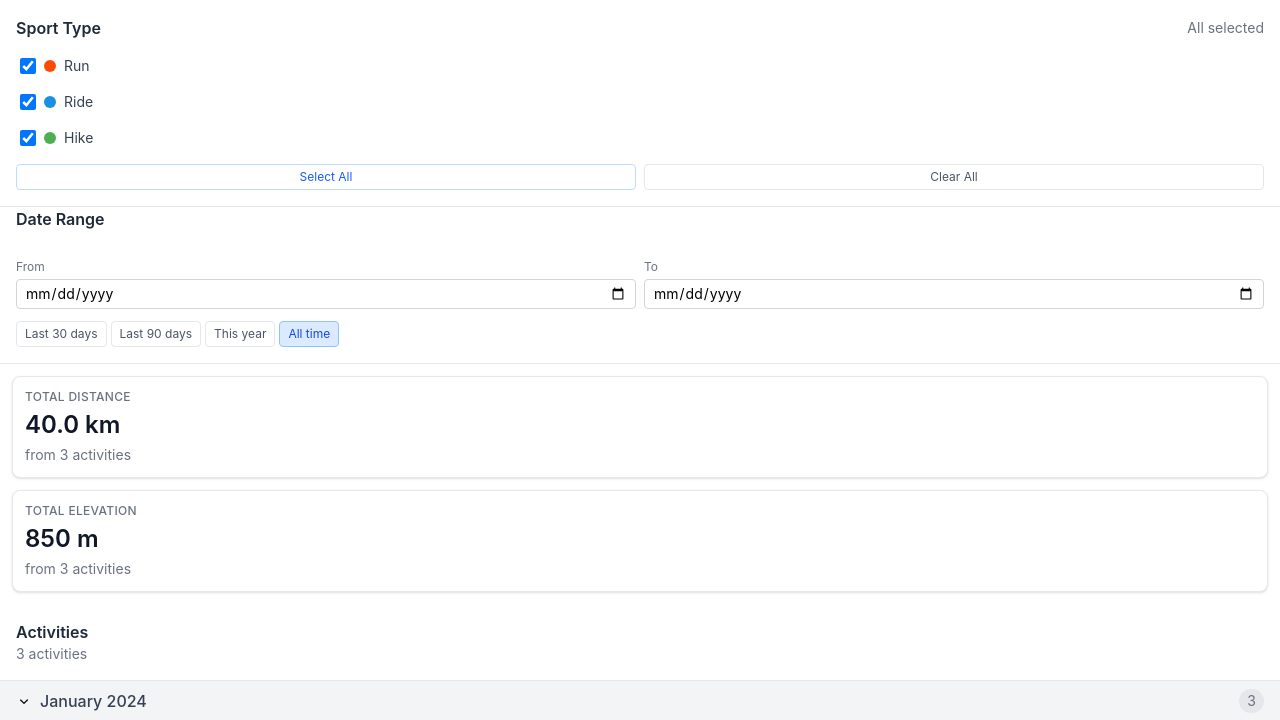
it: SidebarPanel › shows correct count when filtered
This screenshot has width=1280, height=720.
Toggle off 'run'
What coordinates should you click on to do the following:
click the checkbox labelled "Run"
I would click on:
 (28, 66)
Its box is [20,58,36,74].
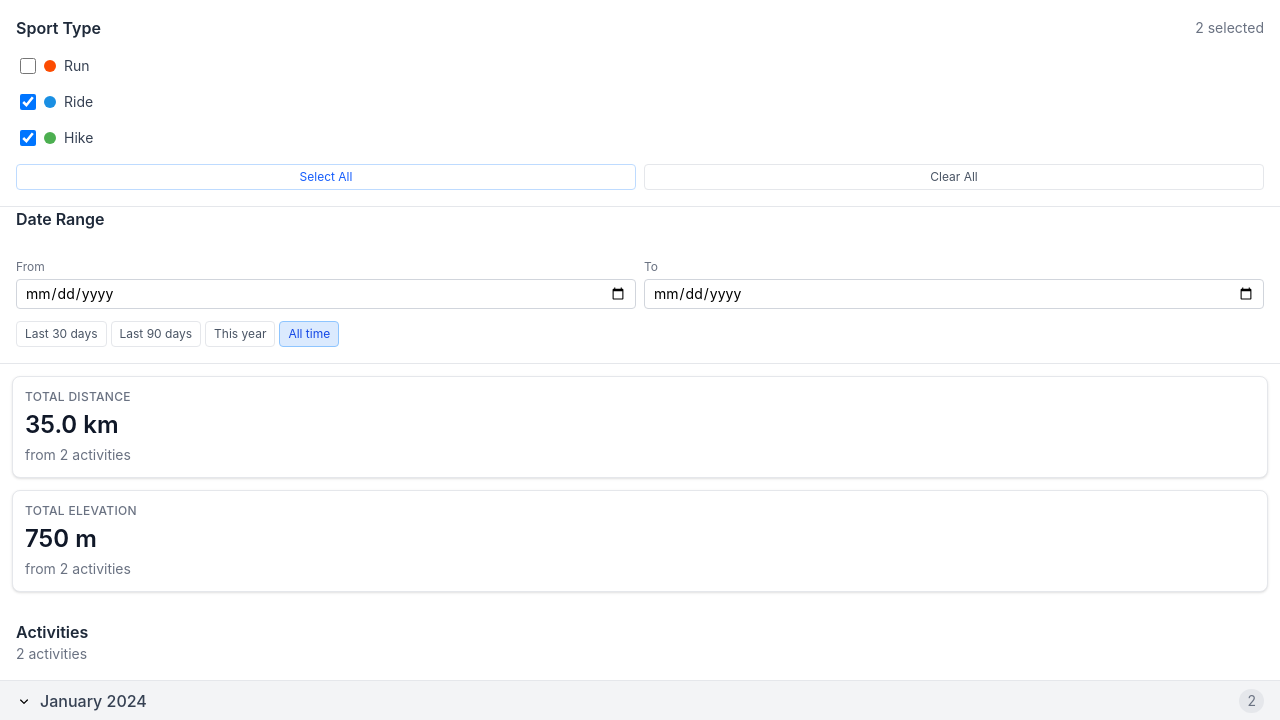
Now the text "2 activities" is shown, box [16,645,87,662]
